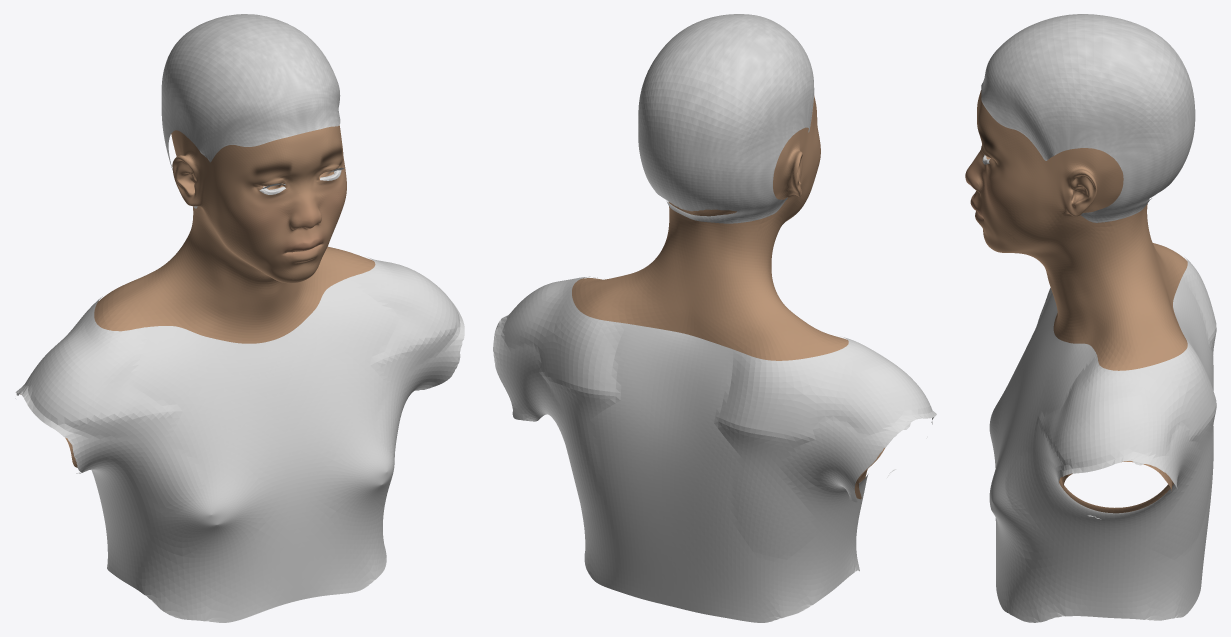
The model's file is hd_m_medium.glb.
3 renders of one model, left to right at view 1: azimuth 30°, elevation 25°; view 2: azimuth 150°, elevation 25°; view 3: azimuth 270°, elevation 25°, orthographic.
Visible parts, largest first — view 1: top, skin, hair; view 2: top, hair, skin; view 3: top, skin, hair.
Part boxes in pixels (box(x1,y1,x2,y2)): top: box(15, 257, 464, 622); skin: box(20, 125, 375, 467); hair: box(161, 14, 340, 208); top: box(493, 276, 936, 622); hair: box(638, 14, 814, 223); skin: box(572, 95, 885, 499); top: box(989, 257, 1216, 622); skin: box(965, 90, 1187, 513); hair: box(981, 14, 1195, 222).
Bounding box in the file's own units: 0.4742 × 0.5873 × 0.2418.
